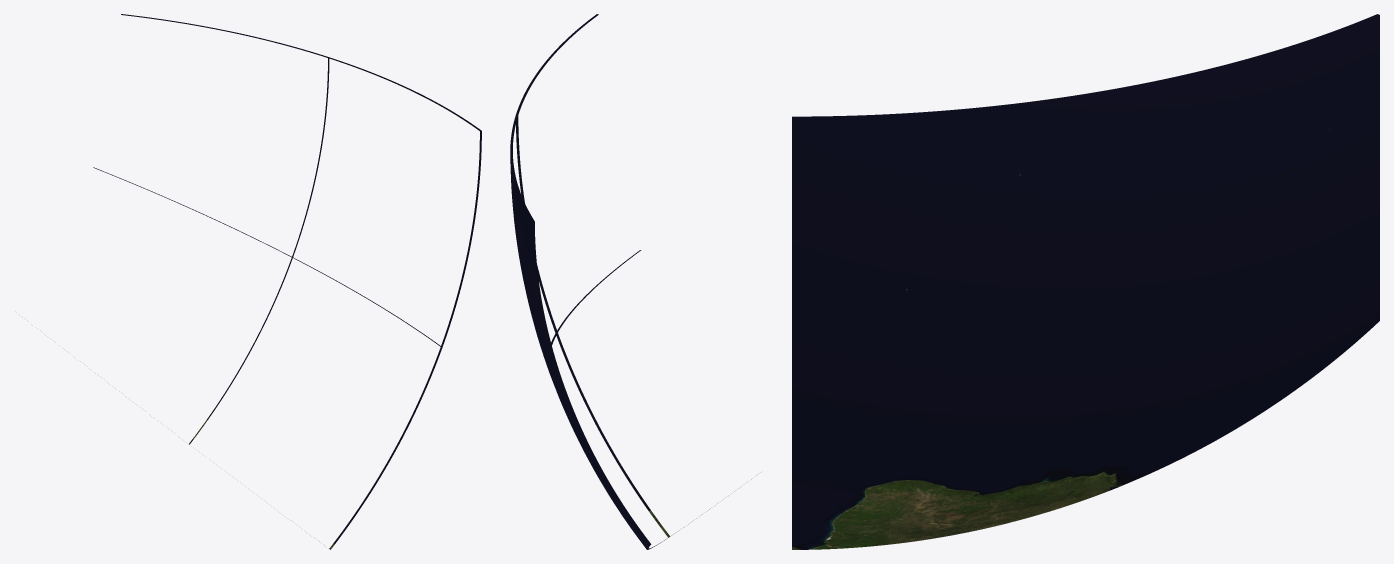
The picture shows the model from 3 angles, left to right: view 1: azimuth 30°, elevation 25°; view 2: azimuth 150°, elevation 25°; view 3: azimuth 270°, elevation 25°; orthographic projection. The views are drawn at different scales.
Visible parts, largest first — view 1: DefaultName.009, DefaultName.012, DefaultName.006, DefaultName.003; view 2: DefaultName.006, DefaultName.003, DefaultName.012, DefaultName.009; view 3: DefaultName.009, DefaultName.006, DefaultName.012, DefaultName.003.
Boxes of the visible parts, left/top/right/bottom form: DefaultName.009: left=328, top=57, right=481, bottom=347; DefaultName.012: left=292, top=257, right=442, bottom=549; DefaultName.006: left=121, top=14, right=329, bottom=257; DefaultName.003: left=93, top=167, right=292, bottom=444; DefaultName.006: left=510, top=115, right=564, bottom=388; DefaultName.003: left=550, top=333, right=668, bottom=549; DefaultName.012: left=556, top=250, right=756, bottom=537; DefaultName.009: left=516, top=14, right=598, bottom=333; DefaultName.009: left=792, top=90, right=1109, bottom=380; DefaultName.006: left=1109, top=14, right=1379, bottom=333; DefaultName.012: left=792, top=334, right=1109, bottom=549; DefaultName.003: left=1110, top=201, right=1379, bottom=490.
Bounding box in the file's own units: 31962 × 45100 × 44873.
Materials: 4 (4 with a texture image).
